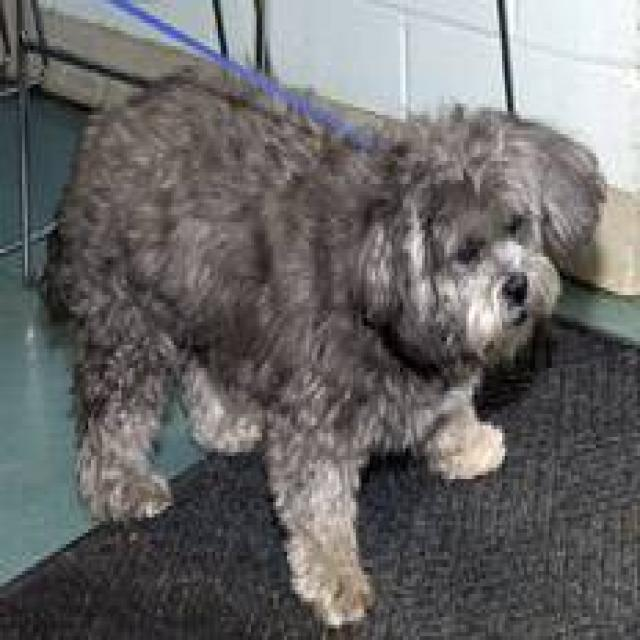dog: (36, 61, 607, 628)
